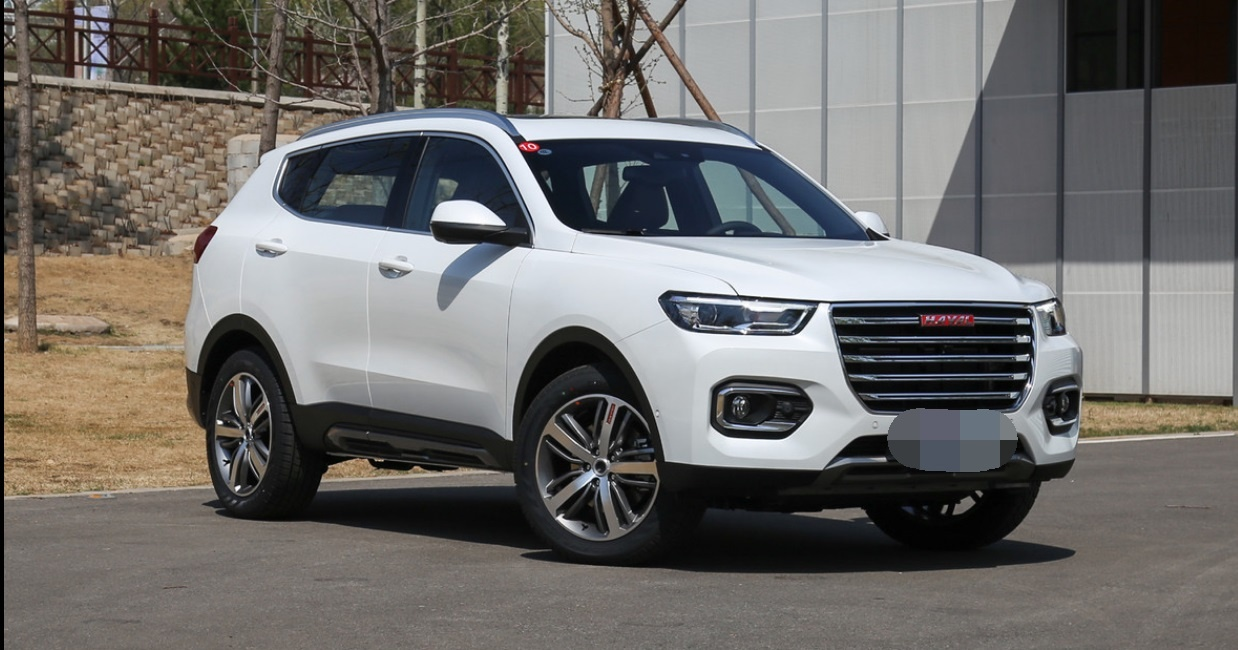SUV: (166, 88, 1097, 557)
